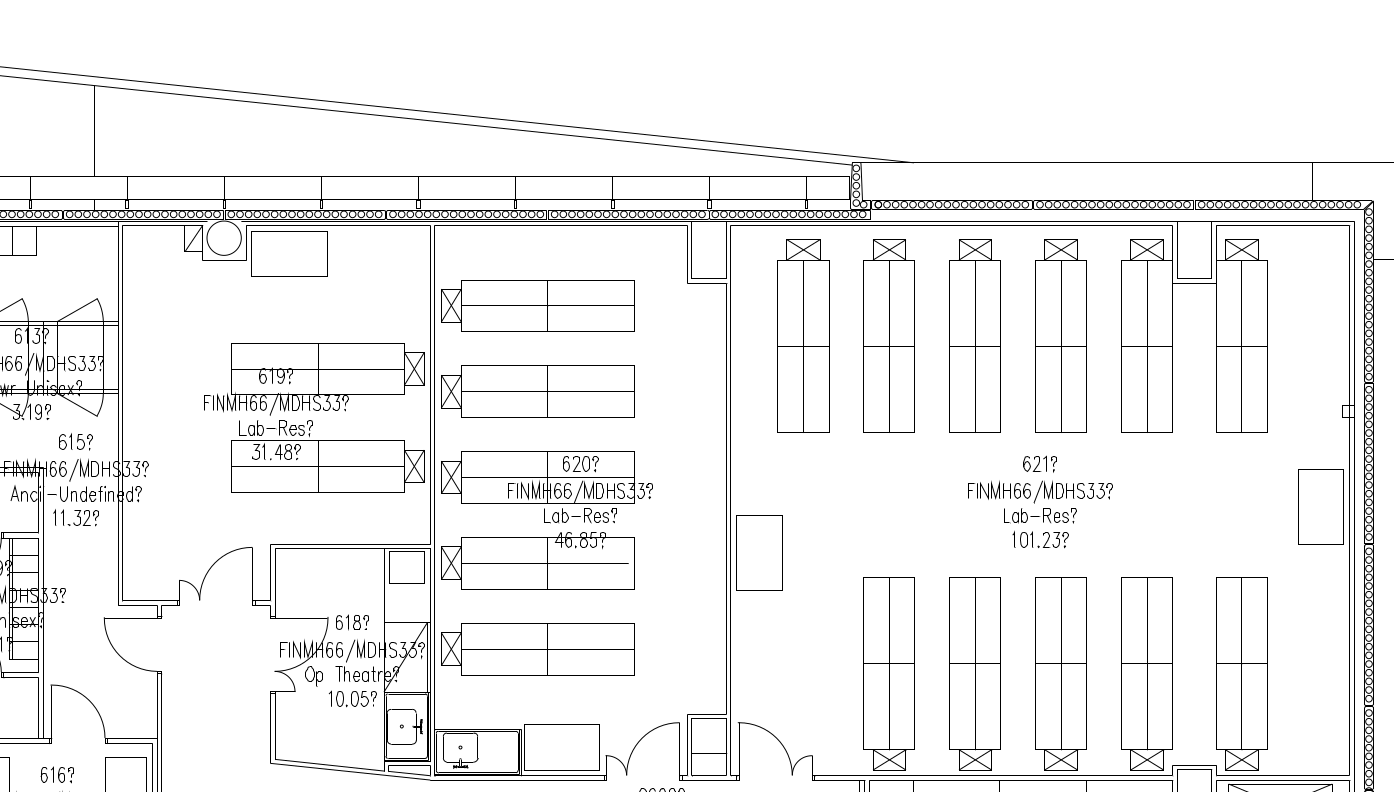door: (200, 539, 259, 612), (98, 615, 157, 688), (47, 673, 106, 746), (736, 715, 793, 783), (626, 711, 683, 779), (269, 615, 332, 673), (53, 289, 112, 322), (174, 573, 200, 611), (793, 748, 817, 785), (604, 750, 628, 787), (271, 671, 300, 699)
